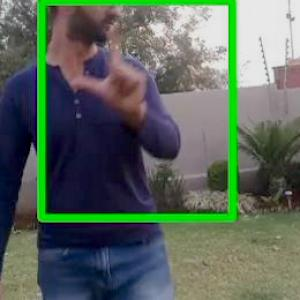land_hand: (69, 21, 155, 118)
